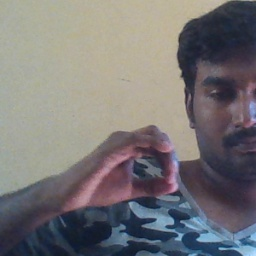O: (63, 122, 185, 213)
